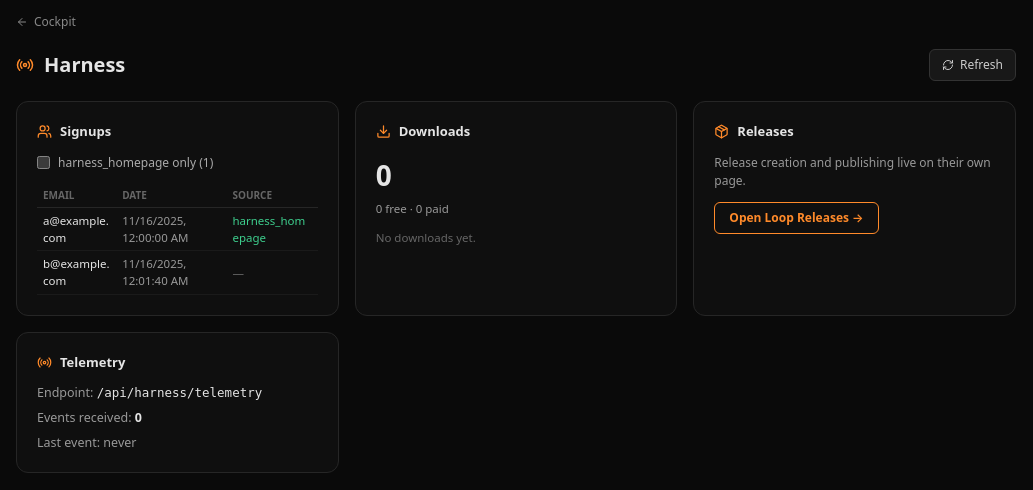
Test case: AdminHarnessOverview › toggling the harness_homepage-only filter re-queries with the source param
The image size is (1033, 490).
Check: the text "b@example.com" is shown, box x1=37 y1=250 x2=116 y2=294
Click the checkbox with test id "harness-overview-signups-filter".
click(44, 162)  # box x1=37 y1=156 x2=50 y2=169
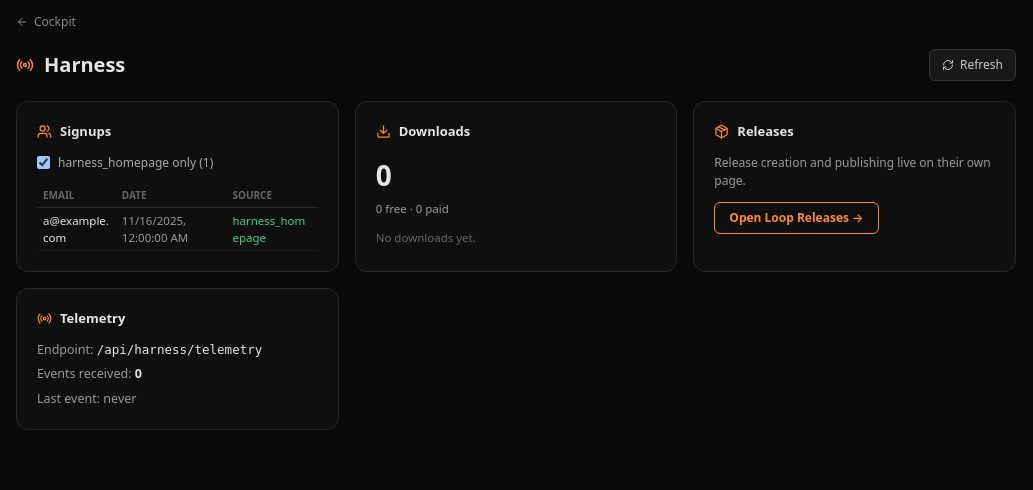
Check: the text "a@example.com" is shown, box x1=37 y1=207 x2=116 y2=250
Check: the text "b@example.com" is gone
